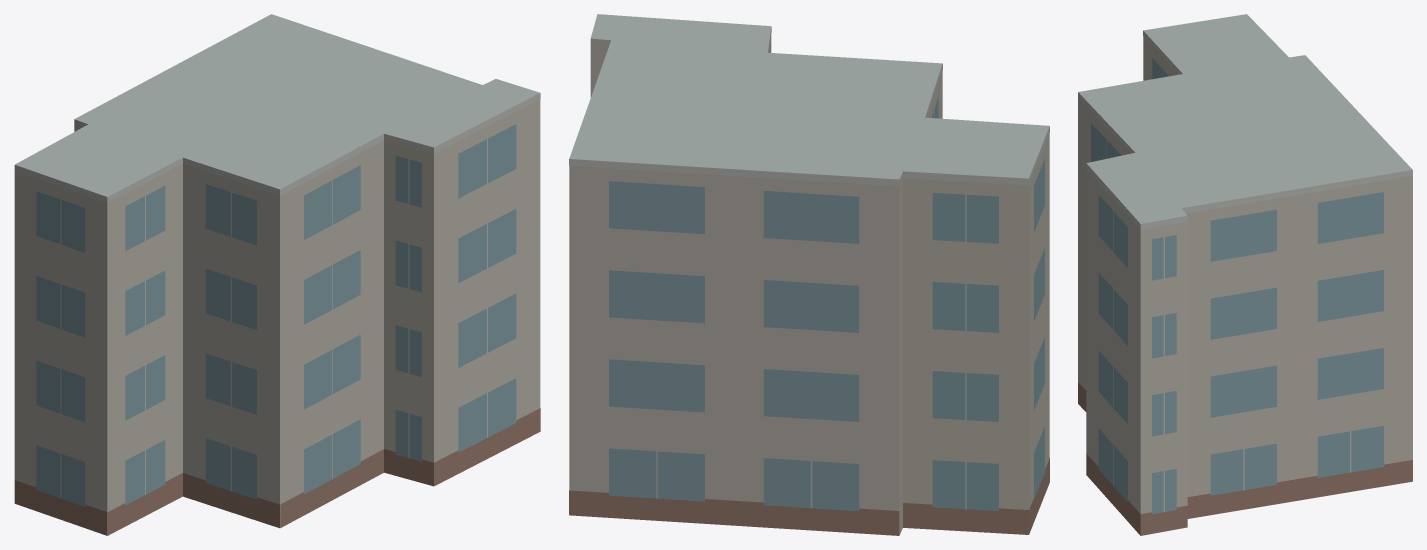
The model's file is survey-upis-32664978.glb.
The picture shows the model from 3 angles, left to right: view 1: azimuth 30°, elevation 25°; view 2: azimuth 150°, elevation 25°; view 3: azimuth 270°, elevation 25°; orthographic projection. The views are drawn at different scales.
Visible parts, largest first — view 1: survey-upis-32664978.tmp; view 2: survey-upis-32664978.tmp; view 3: survey-upis-32664978.tmp.
Boxes of the visible parts, x1,y1,x2,y2 form: survey-upis-32664978.tmp: (14, 14, 540, 535); survey-upis-32664978.tmp: (569, 14, 1049, 535); survey-upis-32664978.tmp: (1078, 14, 1412, 535).
Size of the model in its own units: 18.51 by 12.8 by 12.46.
